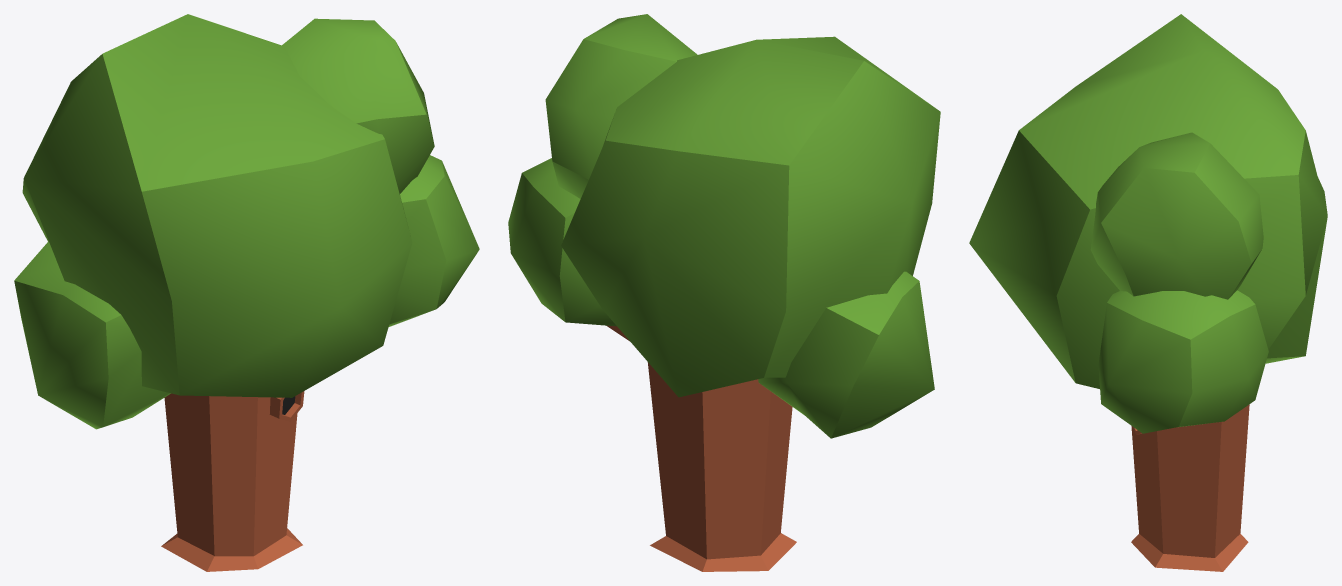
Rendered from Tree3.gltf.
3 views of the same model, side by side, from view 1: azimuth 30°, elevation 25°; view 2: azimuth 150°, elevation 25°; view 3: azimuth 270°, elevation 25° (orthographic). The views are drawn at different scales.
Visible parts, largest first — view 1: node-0; view 2: node-0; view 3: node-0.
Boxes of the visible parts, left/top/right/bottom form: node-0: left=14, top=14, right=479, bottom=571; node-0: left=508, top=14, right=940, bottom=571; node-0: left=969, top=14, right=1327, bottom=571.
Size of the model in its own units: 7.49 by 8.96 by 6.09.
1 material, 1 textured.
